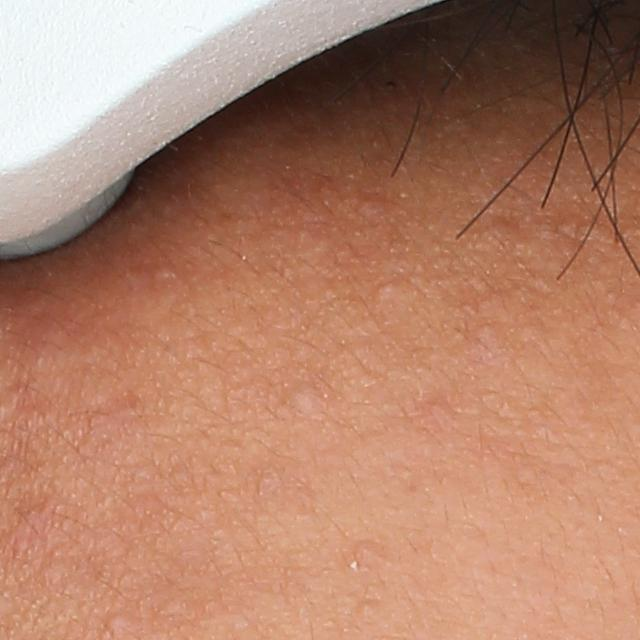comedo: (554, 208, 623, 250), (282, 382, 322, 416), (374, 276, 406, 304), (105, 613, 131, 633)
